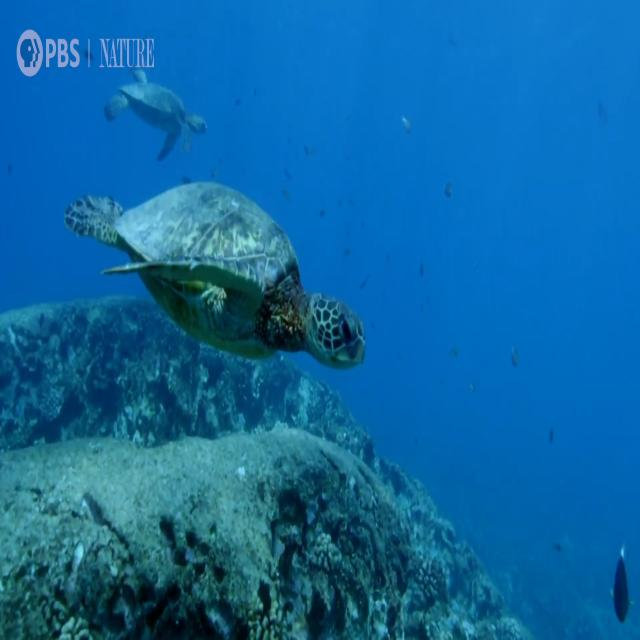Green-Sea-Turtle -Endangered-: (64, 181, 365, 369), (103, 64, 205, 162)
